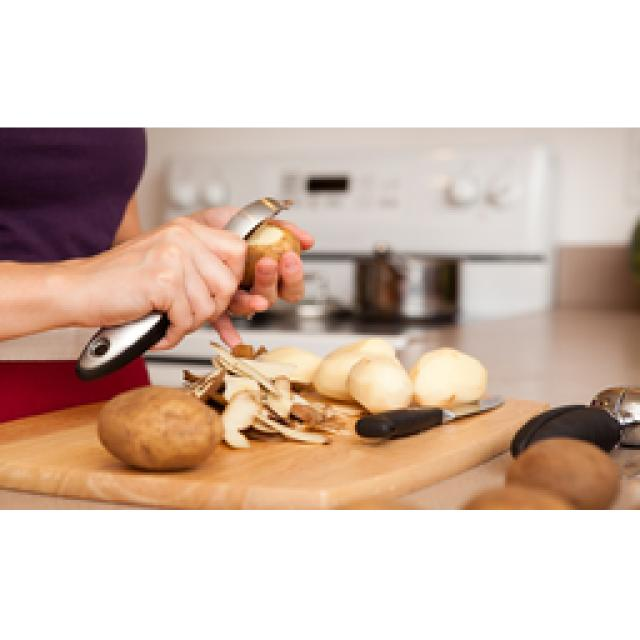food_waste: (100, 338, 500, 468), (465, 405, 620, 508), (242, 220, 298, 282)
